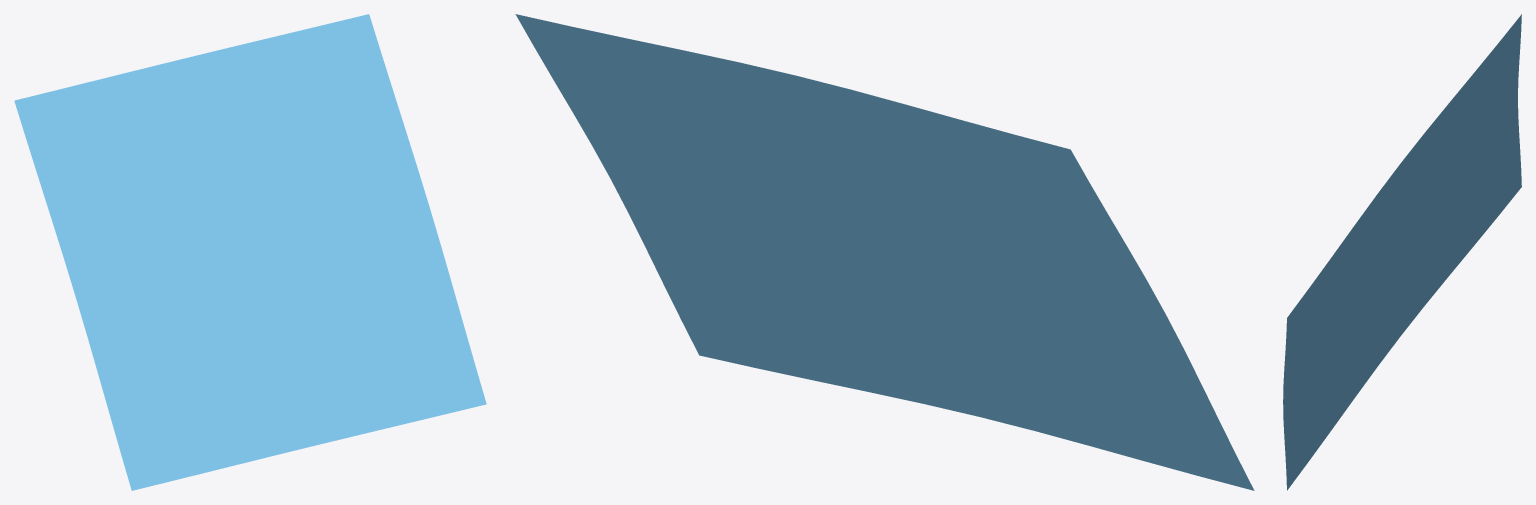
Rendered from morph.glb.
3 renders of one model, left to right at view 1: azimuth 30°, elevation 25°; view 2: azimuth 150°, elevation 25°; view 3: azimuth 270°, elevation 25°, orthographic. The views are drawn at different scales.
Parts seen in each view (by area): view 1: sheet_node; view 2: sheet_node; view 3: sheet_node.
Boxes of the visible parts, x1,y1,x2,y2 form: sheet_node: (14,14,486,490); sheet_node: (515,14,1254,490); sheet_node: (1283,14,1521,490).
Bounding box in the file's own units: 2 × 1.65 × 1.17.
